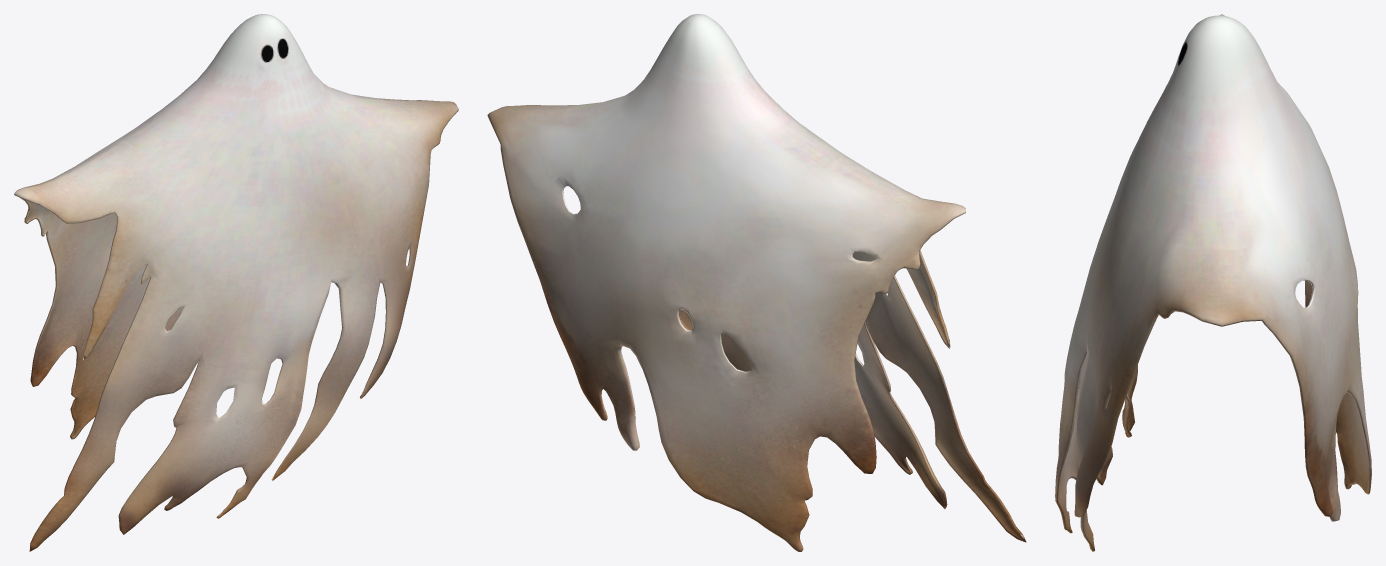
The model's file is fantasma.fbx.
The picture shows the model from 3 angles, left to right: view 1: azimuth 30°, elevation 25°; view 2: azimuth 150°, elevation 25°; view 3: azimuth 270°, elevation 25°; orthographic projection. The views are drawn at different scales.
Parts seen in each view (by area): view 1: node_id48; view 2: node_id48; view 3: node_id48.
Part boxes in pixels (x1,y1,x2,y2): node_id48: (14, 14, 458, 551); node_id48: (487, 14, 1026, 551); node_id48: (1055, 14, 1371, 551).
Bounding box in the file's own units: 0.512 × 0.4715 × 0.229.
Materials: 1 (1 with a texture image).
